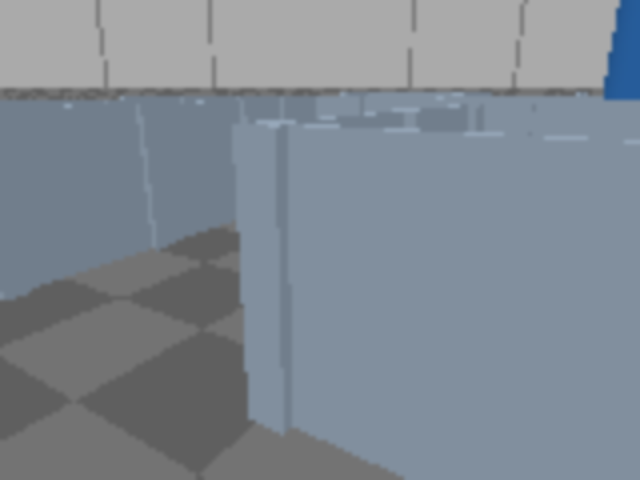person: (586, 0, 638, 202)
